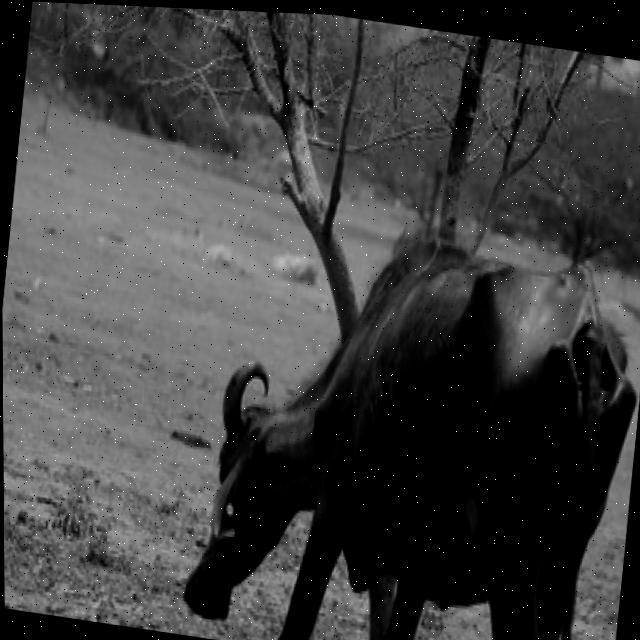Buffalo: (171, 194, 640, 640)
